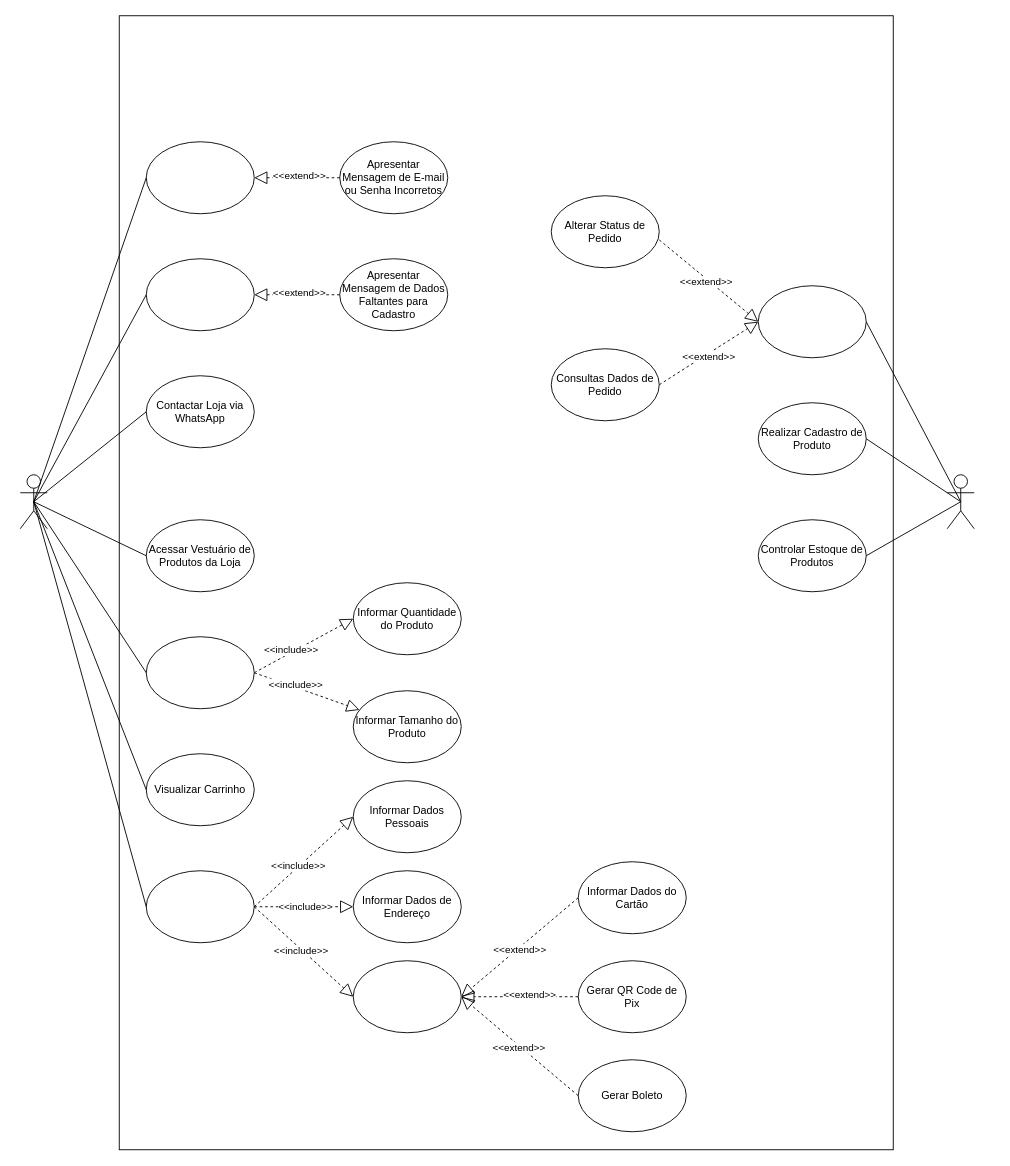
Image size: 1010x1166. Some labels were removed from this diagram. The box of each missing label's shape, as (x1, y1, x2, y2) in pixels:
Adicionar Produtos ao Carrinho: (145, 636, 254, 709)
Administrador: (946, 474, 974, 529)
Confirmar Pedido: (145, 870, 254, 943)
Consultar Pedidos e Seus Status: (757, 285, 866, 358)
Realizar Cadastro de Usuário: (145, 258, 254, 331)
Realizar LogIn: (145, 141, 254, 214)
Selecionar Método de Pagamento: (352, 960, 461, 1033)
Usuário: (19, 474, 47, 529)
